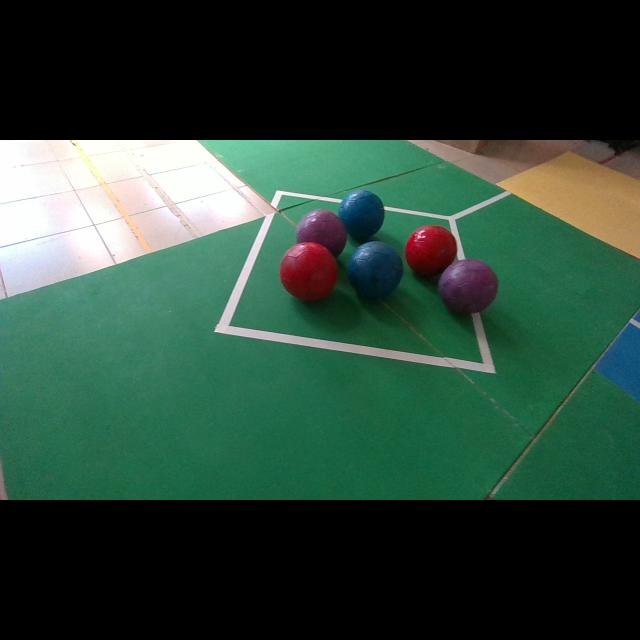B: (348, 241, 402, 299), (339, 190, 385, 239)
P: (439, 259, 498, 314), (296, 209, 348, 257)
R: (279, 242, 338, 301), (405, 225, 458, 277)
